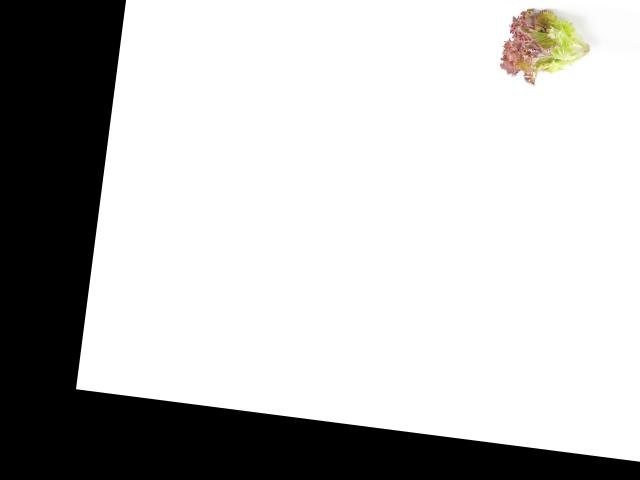lettuce: (493, 2, 605, 90)
